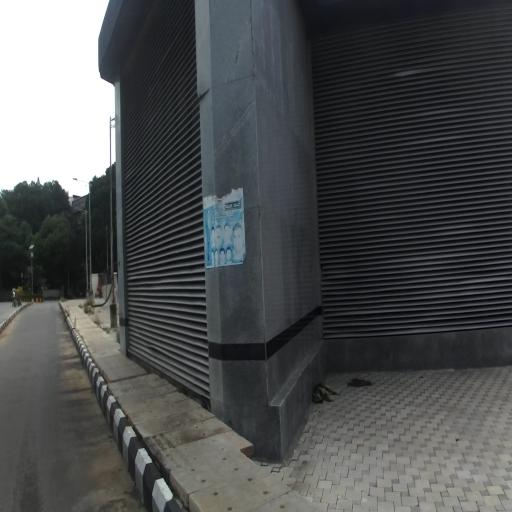street_light_0: (72, 178, 92, 188), (74, 209, 88, 214)
